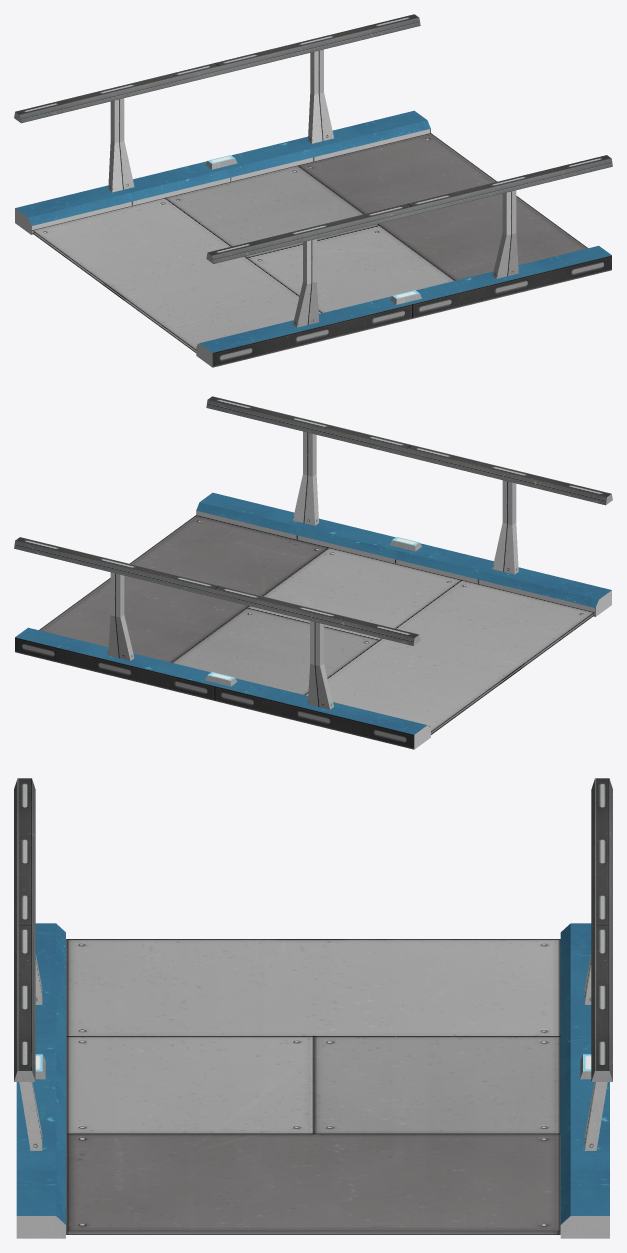
The model's file is Ramp_Line_PlateForm_01.FBX.
3 renders of one model, top to bottom at view 1: azimuth 30°, elevation 25°; view 2: azimuth 150°, elevation 25°; view 3: azimuth 270°, elevation 25°, orthographic. The views are drawn at different scales.
Parts seen in each view (by area): view 1: Ramp_Line_PlateForm_01; view 2: Ramp_Line_PlateForm_01; view 3: Ramp_Line_PlateForm_01.
Boxes of the visible parts, <box> form: Ramp_Line_PlateForm_01: <box>14,14,612,367</box>; Ramp_Line_PlateForm_01: <box>14,396,612,749</box>; Ramp_Line_PlateForm_01: <box>14,778,612,1238</box>.
Bounding box in the file's own units: 140 × 37.34 × 121.
